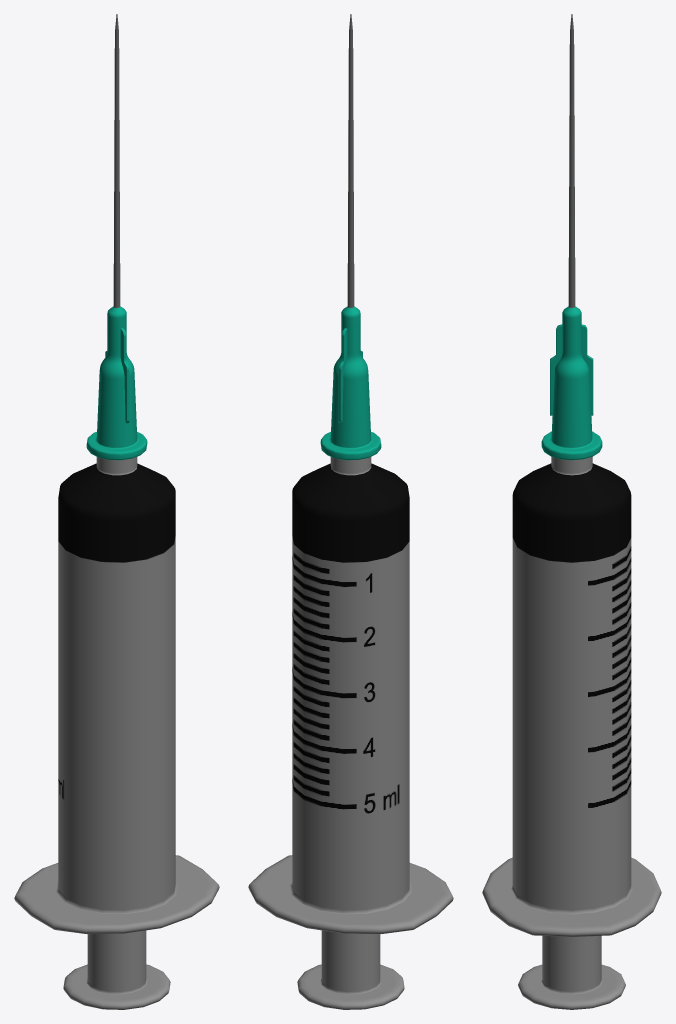
The model's file is syringe.fbx.
3 views of the same model, side by side, from view 1: azimuth 30°, elevation 25°; view 2: azimuth 150°, elevation 25°; view 3: azimuth 270°, elevation 25° (orthographic).
Parts seen in each view (by area): view 1: medicalSyringe; view 2: medicalSyringe; view 3: medicalSyringe.
Boxes of the visible parts, x1,y1,x2,y2 form: medicalSyringe: (14,14,219,1009); medicalSyringe: (248,14,453,1009); medicalSyringe: (482,14,661,1009).
Bounding box in the file's own units: 194 × 1047 × 175.
1 material, 1 textured.
